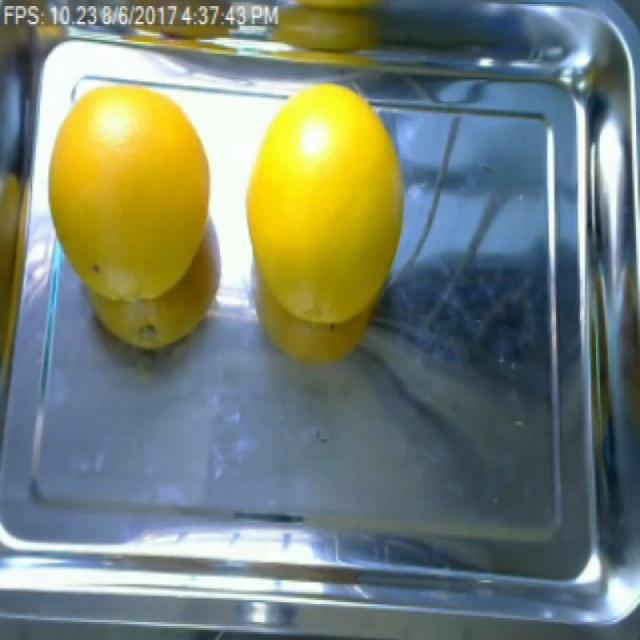Fruit: (234, 71, 418, 266)
